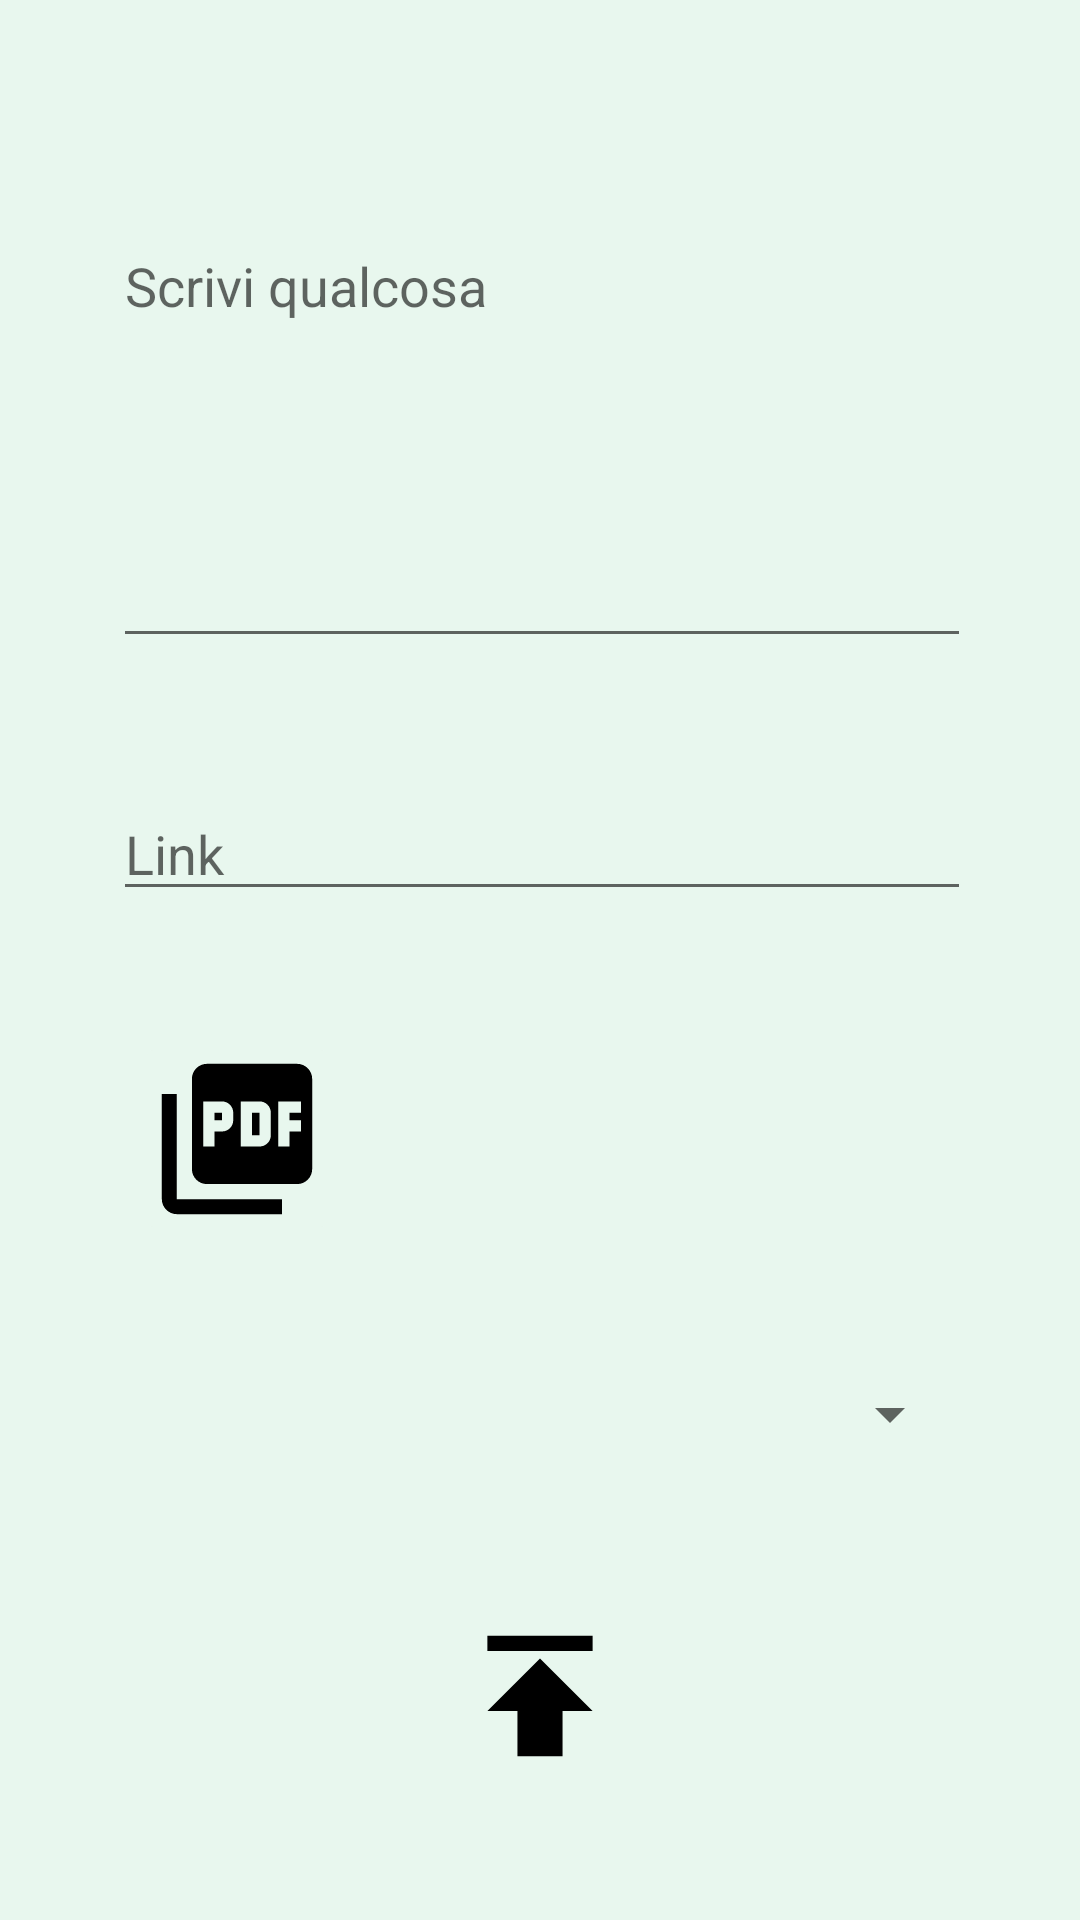

Named icons in this screenshot (1080w x 1920h) and their centers, point (x, y):
Icona upload: point (540, 1696)
